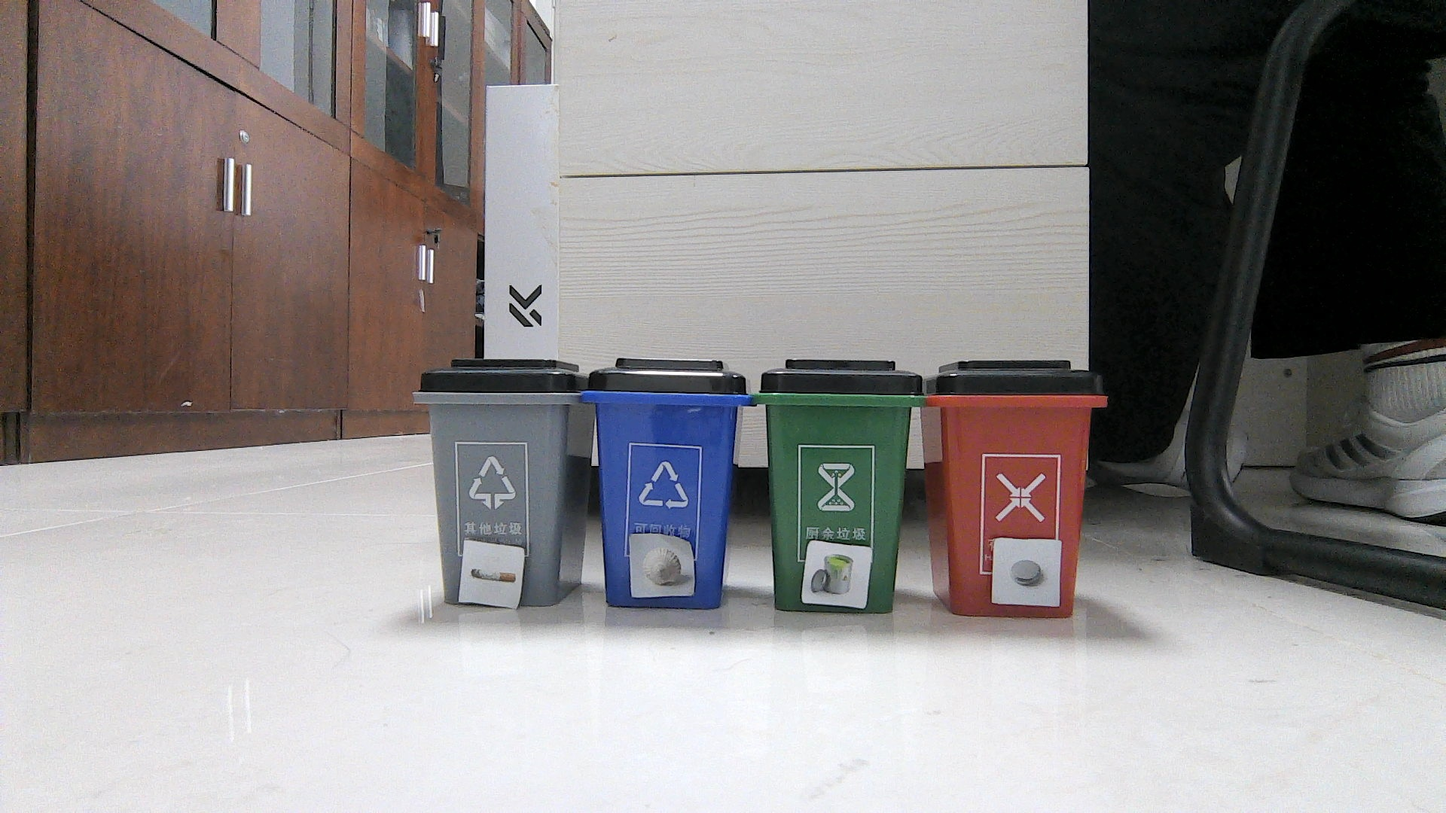hazardous_trash: (997, 540, 1055, 602), (806, 546, 864, 603)
other_trash: (466, 550, 523, 602), (636, 539, 688, 593)
